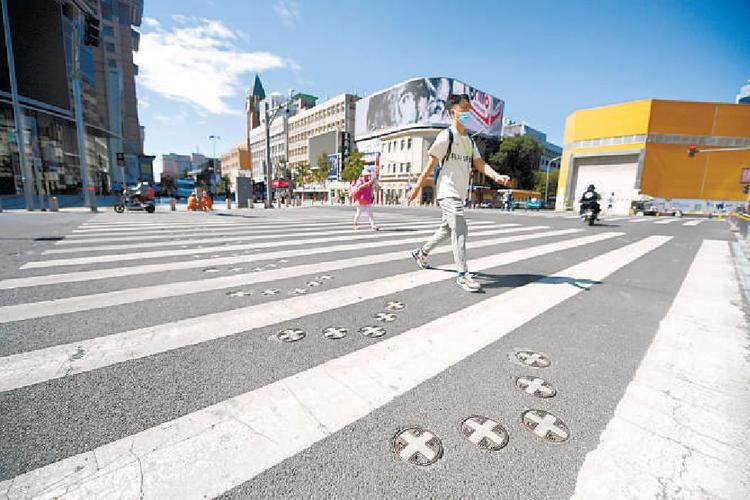person: (405, 93, 516, 280), (348, 166, 382, 232), (579, 182, 602, 226), (135, 182, 157, 213), (112, 182, 127, 213), (500, 189, 515, 211)
traffic light: (687, 142, 697, 154)
